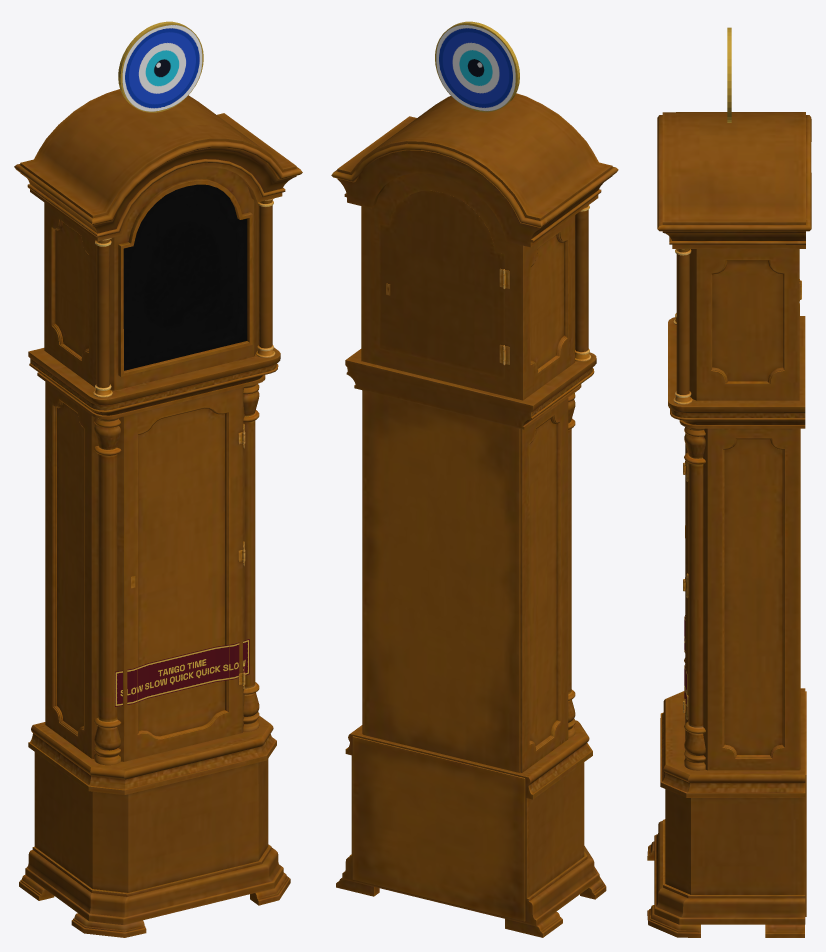
The model's file is nyb_scent_clock.glb.
The picture shows the model from 3 angles, left to right: view 1: azimuth 30°, elevation 25°; view 2: azimuth 150°, elevation 25°; view 3: azimuth 270°, elevation 25°; orthographic projection.
Visible parts, largest first — view 1: vintage_grandfather_clock_01_body, add_nazar_die.png, stk_lbl_fcb837a96b.png, Cylinder; view 2: vintage_grandfather_clock_01_body, add_nazar_die.png, Cylinder; view 3: vintage_grandfather_clock_01_body, Cylinder.
Boxes of the visible parts, box(x1,y1,x2,y2) form: vintage_grandfather_clock_01_body: box(14, 89, 302, 937); add_nazar_die.png: box(122, 25, 202, 111); stk_lbl_fcb837a96b.png: box(115, 639, 249, 706); Cylinder: box(118, 21, 203, 112); vintage_grandfather_clock_01_body: box(331, 93, 618, 937); add_nazar_die.png: box(436, 25, 515, 111); Cylinder: box(435, 21, 519, 112); vintage_grandfather_clock_01_body: box(647, 112, 811, 937); Cylinder: box(727, 27, 731, 122).
Size of the model in its own units: 0.6256 by 2.45 by 0.4267.
5 materials, 4 textured.
